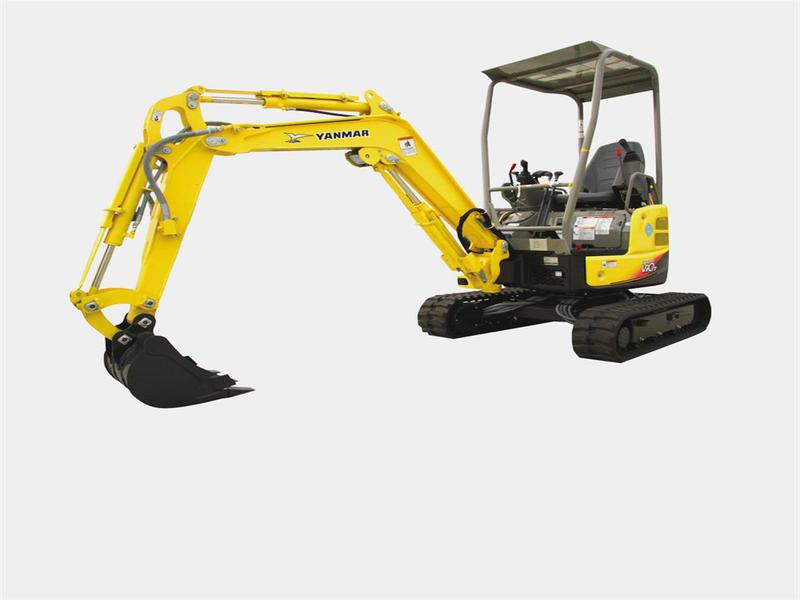shovel: (69, 34, 714, 421)
